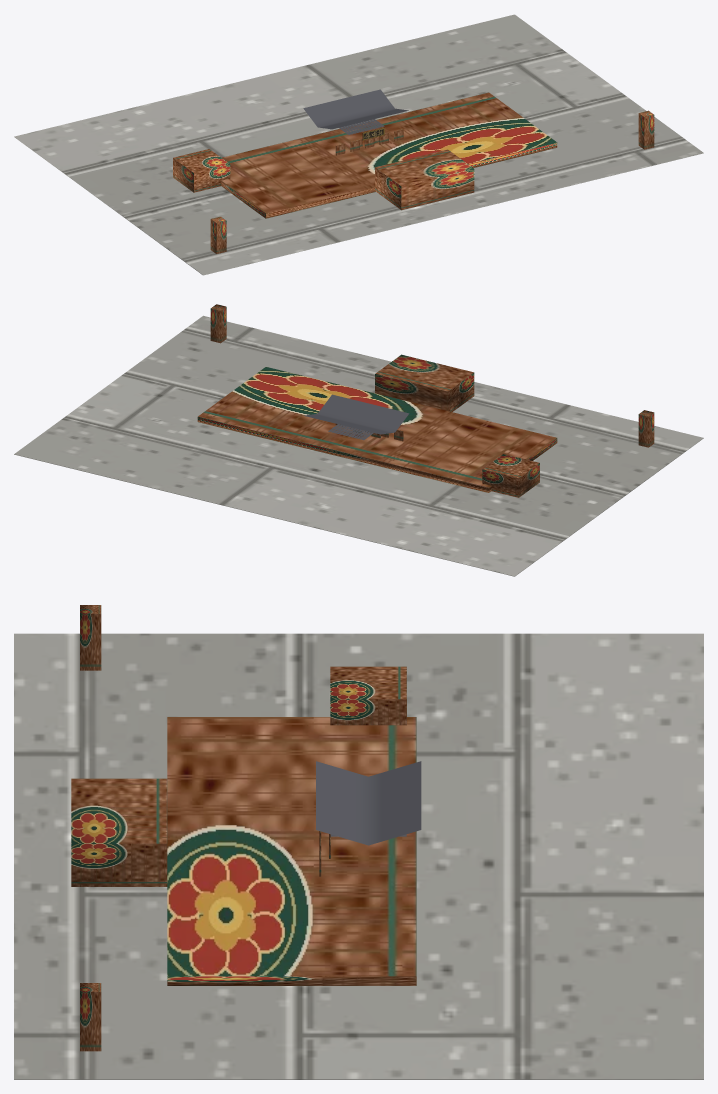
The picture shows the model from 3 angles, top to bottom: view 1: azimuth 30°, elevation 25°; view 2: azimuth 150°, elevation 25°; view 3: azimuth 270°, elevation 25°; orthographic projection. The views are drawn at different scales.
Parts seen in each view (by area): view 1: 11680_01_06190_019_01_L2__base, 11680_01_06190_019_02_L2__body, 11680_01_06190_019_03_L2__roof, 11680_01_06190_019_06_L2__green, 11680_01_06190_019_05_L2__openings; view 2: 11680_01_06190_019_01_L2__base, 11680_01_06190_019_02_L2__body, 11680_01_06190_019_03_L2__roof, 11680_01_06190_019_06_L2__green; view 3: 11680_01_06190_019_01_L2__base, 11680_01_06190_019_02_L2__body, 11680_01_06190_019_03_L2__roof, 11680_01_06190_019_06_L2__green.
Part boxes in pixels (left/top/right/bottom): 11680_01_06190_019_01_L2__base: left=14, top=14, right=703, bottom=275; 11680_01_06190_019_02_L2__body: left=173, top=92, right=557, bottom=218; 11680_01_06190_019_03_L2__roof: left=303, top=89, right=408, bottom=134; 11680_01_06190_019_06_L2__green: left=210, top=110, right=654, bottom=253; 11680_01_06190_019_05_L2__openings: left=335, top=129, right=403, bottom=155; 11680_01_06190_019_01_L2__base: left=14, top=315, right=703, bottom=576; 11680_01_06190_019_02_L2__body: left=197, top=354, right=557, bottom=497; 11680_01_06190_019_03_L2__roof: left=304, top=394, right=409, bottom=440; 11680_01_06190_019_06_L2__green: left=210, top=304, right=654, bottom=447; 11680_01_06190_019_01_L2__base: left=14, top=633, right=703, bottom=1079; 11680_01_06190_019_02_L2__body: left=71, top=666, right=416, bottom=985; 11680_01_06190_019_03_L2__roof: left=316, top=761, right=421, bottom=845; 11680_01_06190_019_06_L2__green: left=80, top=605, right=101, bottom=1051.
Size of the model in its own units: 110 by 7.1 by 72.
Materials: 5 (5 with a texture image).
